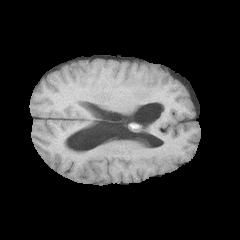glioma: (127, 89, 159, 133)
